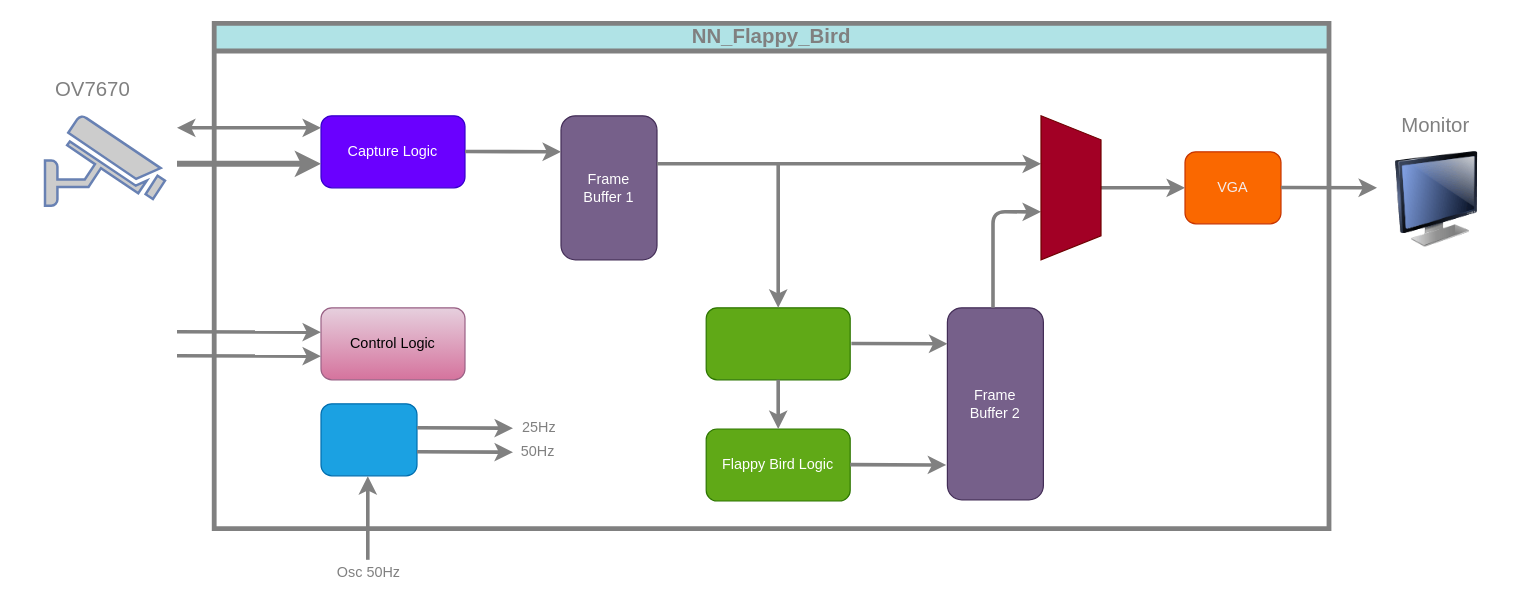
This 1528x611 diagram has some shape labels left out. The centre of each missing label's shape, as x and y in pixels:
"Mux" goes at [1070,187].
"NN_RGB" goes at [777,343].
"PLL" goes at [368,439].
